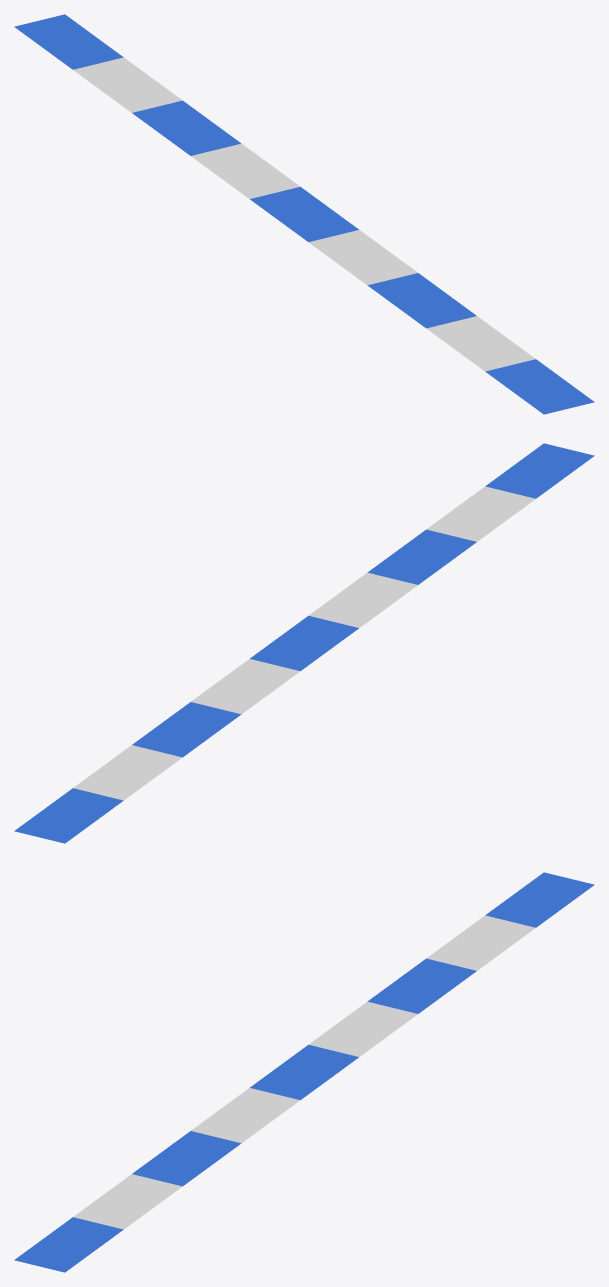
Rendered from Finish Line.fbx.
The picture shows the model from 3 angles, top to bottom: view 1: azimuth 30°, elevation 25°; view 2: azimuth 150°, elevation 25°; view 3: azimuth 330°, elevation 25°; orthographic projection.
Parts seen in each view (by area): view 1: Finish Line; view 2: Finish Line; view 3: Finish Line.
Boxes of the visible parts, box(x1,y1,x2,y2) form: Finish Line: box(14, 14, 594, 414); Finish Line: box(14, 443, 594, 843); Finish Line: box(14, 872, 594, 1272).
Bounding box in the file's own units: 37.85 × 0 × 681.
